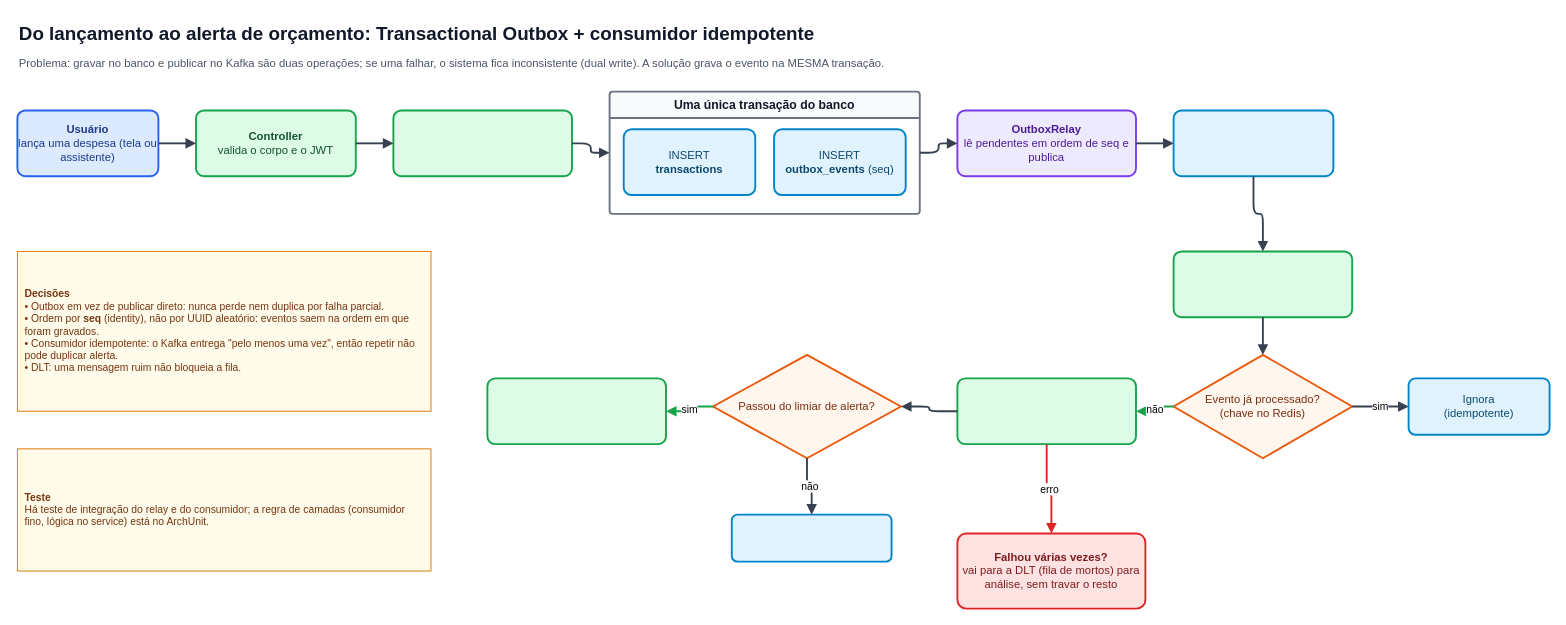
The diagram is 1566 pixels wide and 625 high, and some of its shapes have lost their labels. The shapes that lost their labels are listed below. From the top down, each one's centre as x and y in pixels, then its label:
pixel 482 143: TransactionService autoriza pela família, valida conta e categoria
pixel 1253 143: Kafka tópico de transações
pixel 1262 284: Consumidor BudgetMonitoringConsumer (fino)
pixel 576 411: NotificationService cria a notificação para a família
pixel 1046 411: BudgetAlertService soma o gasto da categoria e compara com o teto
pixel 811 537: Nada a fazer
